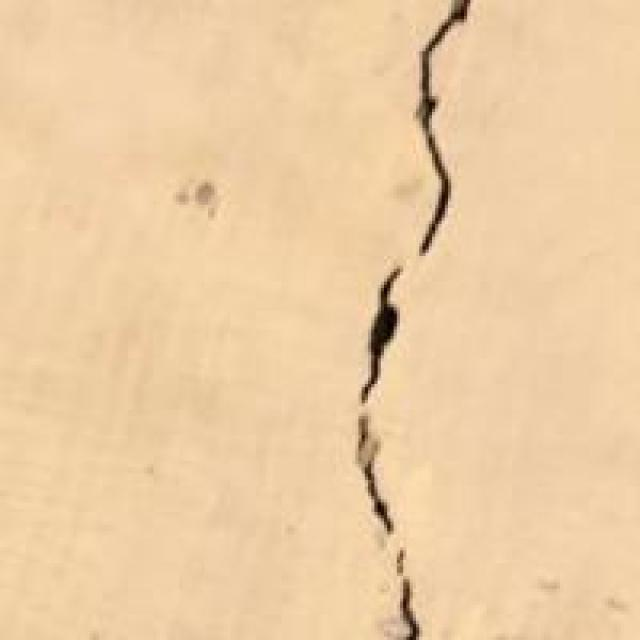crack: (259, 0, 499, 637)
